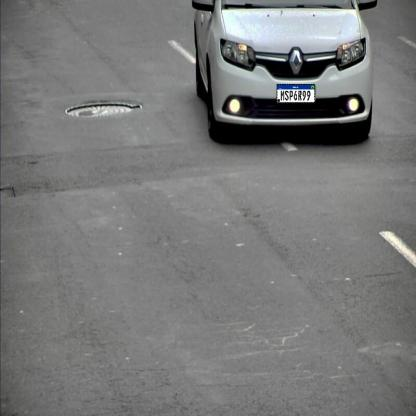PlacaM: (277, 84, 315, 103)
